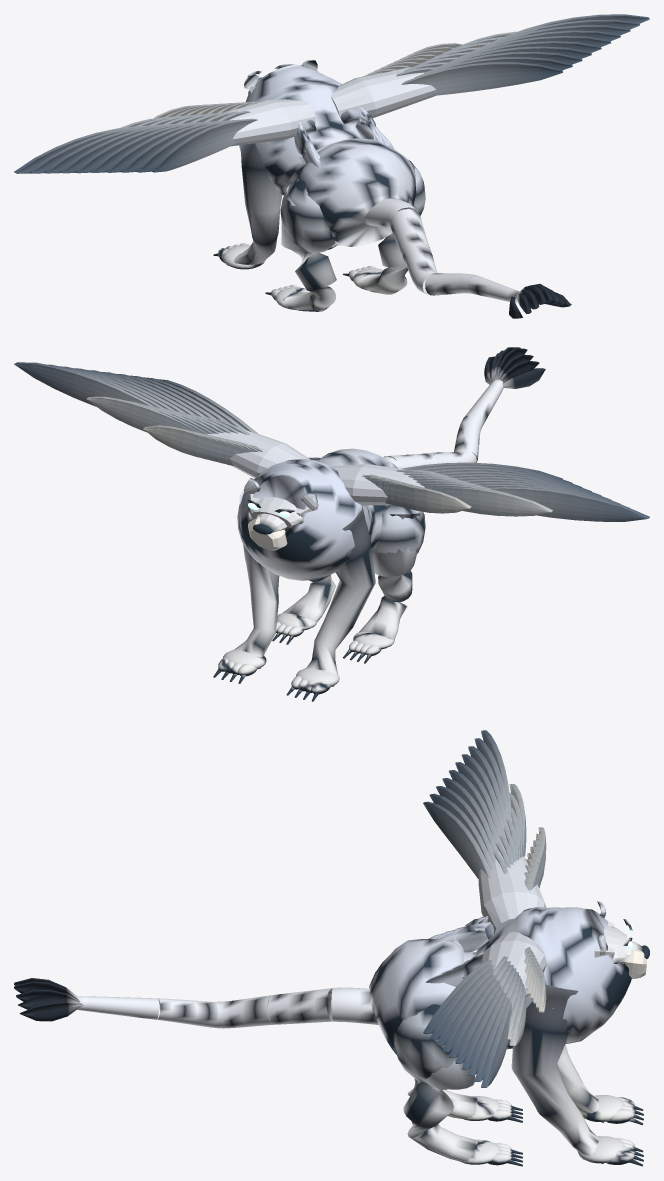
Rendered from skyknit-white-tiger.glb.
The picture shows the model from 3 angles, top to bottom: view 1: azimuth 30°, elevation 25°; view 2: azimuth 150°, elevation 25°; view 3: azimuth 270°, elevation 25°; orthographic projection. The views are drawn at different scales.
Visible parts, largest first — view 1: WhiteTiger_BodyHide, WhiteTiger_Wing_R, WhiteTiger_Wing_L, WhiteTiger_Tail_5, WhiteTiger_Tail_2, WhiteTiger_Tail_3, WhiteTiger_Tail_4, WhiteTiger_Tail_1; view 2: WhiteTiger_BodyHide, WhiteTiger_Wing_L, WhiteTiger_Wing_R, WhiteTiger_Tail_5, WhiteTiger_HeadMane, WhiteTiger_Tail_4, WhiteTiger_JawMuzzle, WhiteTiger_Tail_2; view 3: WhiteTiger_BodyHide, WhiteTiger_Wing_L, WhiteTiger_Wing_R, WhiteTiger_Tail_5, WhiteTiger_Tail_2, WhiteTiger_Tail_3, WhiteTiger_Tail_1, WhiteTiger_Tail_4, WhiteTiger_HeadMane.
Boxes of the visible parts, bbox=[...] form: WhiteTiger_BodyHide: bbox=[213, 64, 425, 311]; WhiteTiger_Wing_R: bbox=[331, 14, 649, 117]; WhiteTiger_Wing_L: bbox=[14, 99, 315, 173]; WhiteTiger_Tail_5: bbox=[467, 275, 571, 318]; WhiteTiger_Tail_2: bbox=[389, 209, 429, 259]; WhiteTiger_Tail_3: bbox=[403, 244, 437, 294]; WhiteTiger_Tail_4: bbox=[425, 273, 476, 295]; WhiteTiger_Tail_1: bbox=[364, 197, 418, 228]; WhiteTiger_BodyHide: bbox=[213, 448, 425, 701]; WhiteTiger_Wing_L: bbox=[332, 462, 649, 521]; WhiteTiger_Wing_R: bbox=[14, 362, 310, 478]; WhiteTiger_Tail_5: bbox=[464, 347, 545, 426]; WhiteTiger_HeadMane: bbox=[244, 478, 318, 534]; WhiteTiger_Tail_4: bbox=[454, 415, 482, 462]; WhiteTiger_JawMuzzle: bbox=[248, 516, 287, 550]; WhiteTiger_Tail_2: bbox=[384, 453, 439, 468]; WhiteTiger_BodyHide: bbox=[369, 907, 643, 1166]; WhiteTiger_Wing_L: bbox=[423, 730, 546, 934]; WhiteTiger_Wing_R: bbox=[423, 932, 546, 1087]; WhiteTiger_Tail_5: bbox=[14, 978, 159, 1021]; WhiteTiger_Tail_2: bbox=[268, 988, 332, 1024]; WhiteTiger_Tail_3: bbox=[214, 995, 272, 1028]; WhiteTiger_Tail_1: bbox=[331, 987, 378, 1024]; WhiteTiger_Tail_4: bbox=[156, 998, 218, 1027]; WhiteTiger_HeadMane: bbox=[594, 901, 649, 963].
Bounding box in the file's own units: 11.77 × 3.73 × 8.86.
